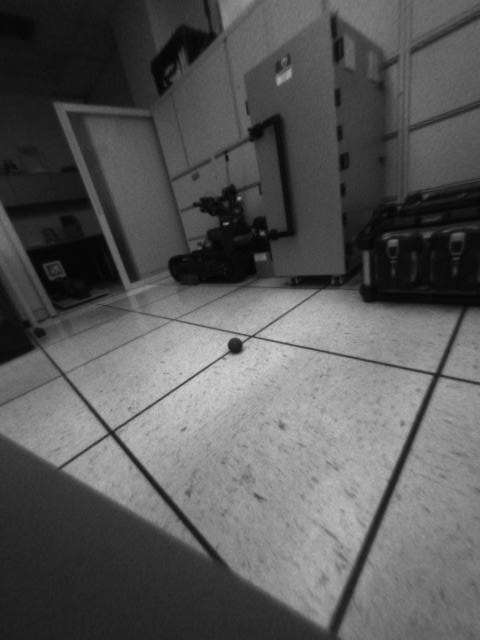dogtoy: (221, 333, 251, 358)
